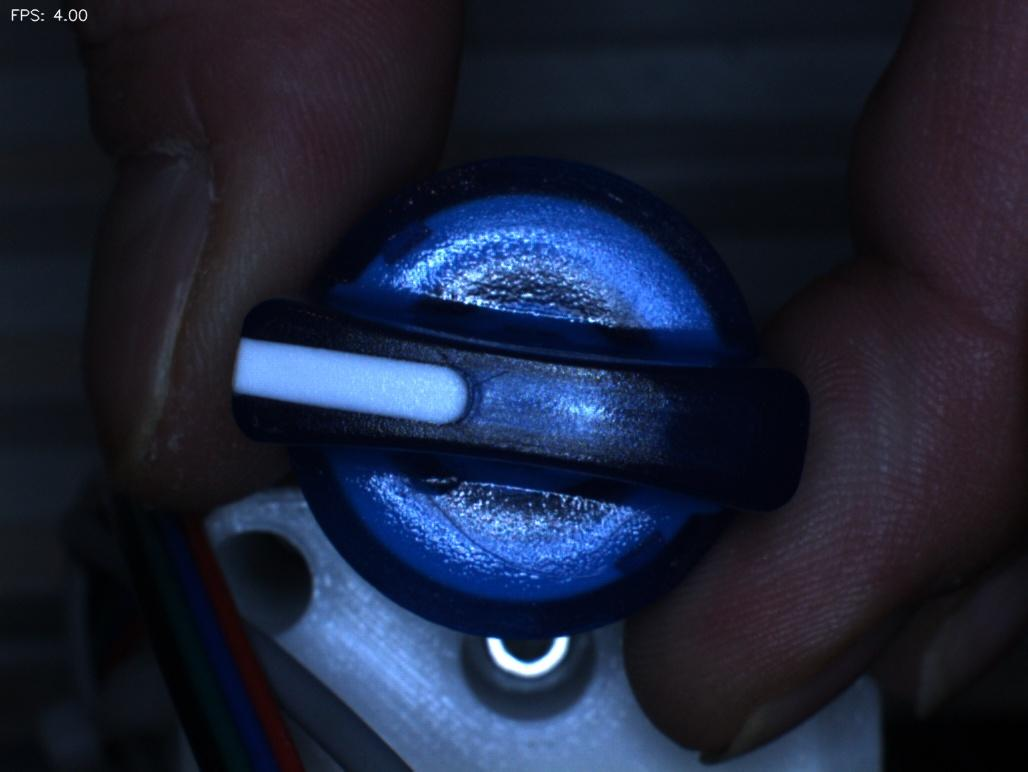Choc: (393, 435, 475, 527)
